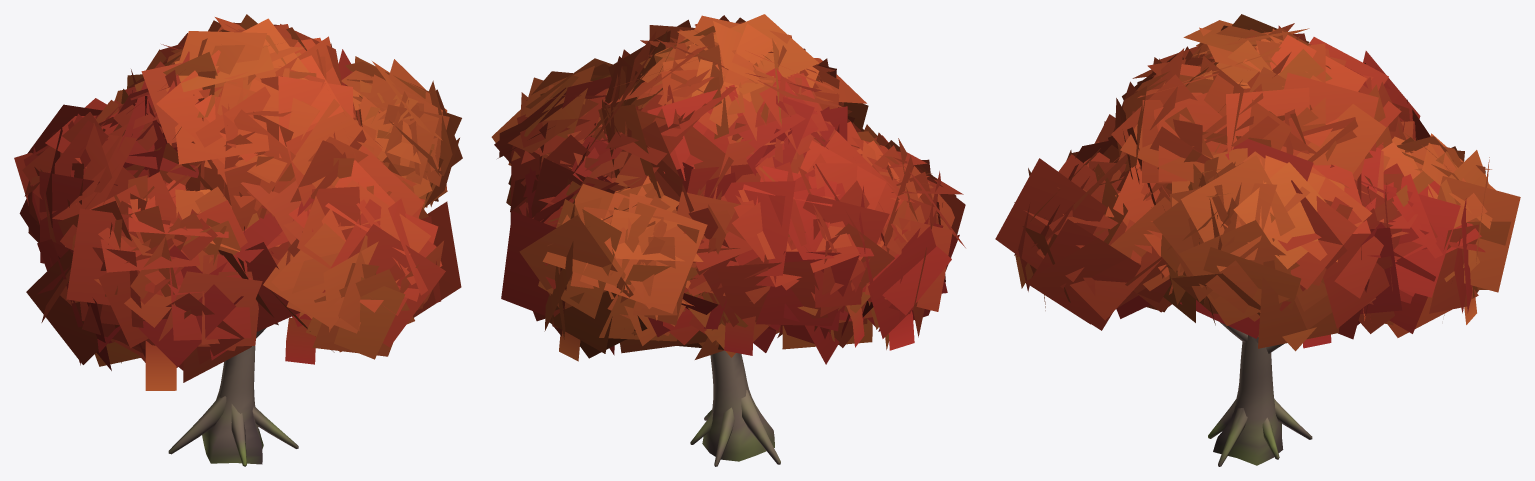
Rendered from tree-maple-dome-v0.glb.
3 views of the same model, side by side, from view 1: azimuth 30°, elevation 25°; view 2: azimuth 150°, elevation 25°; view 3: azimuth 270°, elevation 25° (orthographic).
Visible parts, largest first — view 1: cards_maple, bark; view 2: cards_maple, bark; view 3: cards_maple, bark.
Boxes of the visible parts, x1,y1,x2,y2 form: cards_maple: (14,14,462,390); bark: (168,328,298,466); cards_maple: (491,14,965,364); bark: (690,350,780,466); cards_maple: (995,14,1520,351); bark: (1208,322,1312,466).
Bounding box in the file's own units: 7.07 × 6.73 × 7.55.
